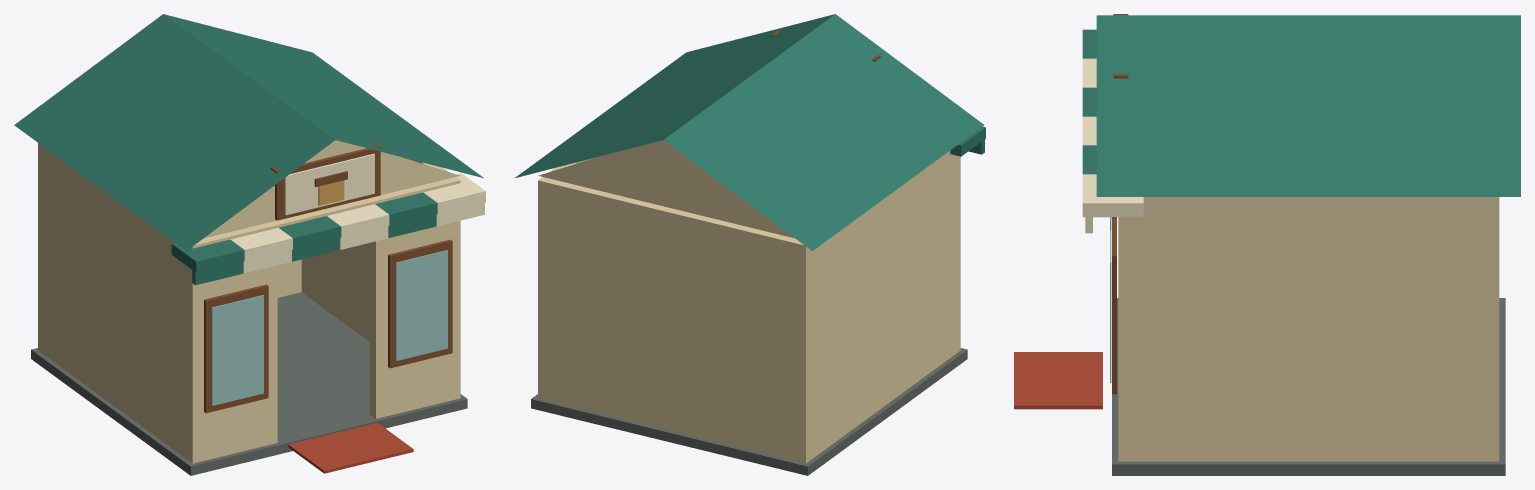
The model's file is exterior.glb.
3 views of the same model, side by side, from view 1: azimuth 30°, elevation 25°; view 2: azimuth 150°, elevation 25°; view 3: azimuth 270°, elevation 25° (orthographic). The views are drawn at different scales.
Parts seen in each view (by area): view 1: exterior; view 2: exterior; view 3: exterior.
Part boxes in pixels (box(x1,y1,x2,y2)): exterior: box(14, 14, 485, 475); exterior: box(515, 14, 985, 475); exterior: box(1014, 14, 1520, 475).
Size of the model in its own units: 3.34 by 3.28 by 3.99.
Materials: 1 (1 with a texture image).
